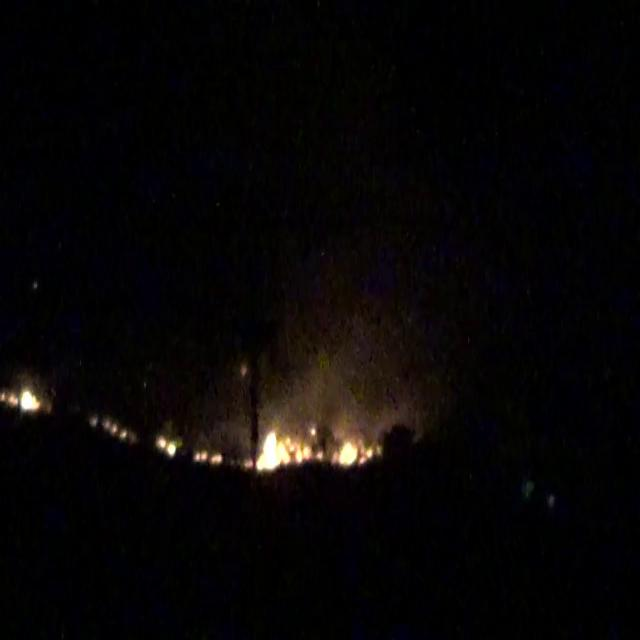Fire: (257, 427, 311, 473), (1, 380, 44, 412), (336, 437, 372, 471), (192, 450, 224, 466), (155, 434, 176, 456)
Smoke: (262, 355, 428, 433)
